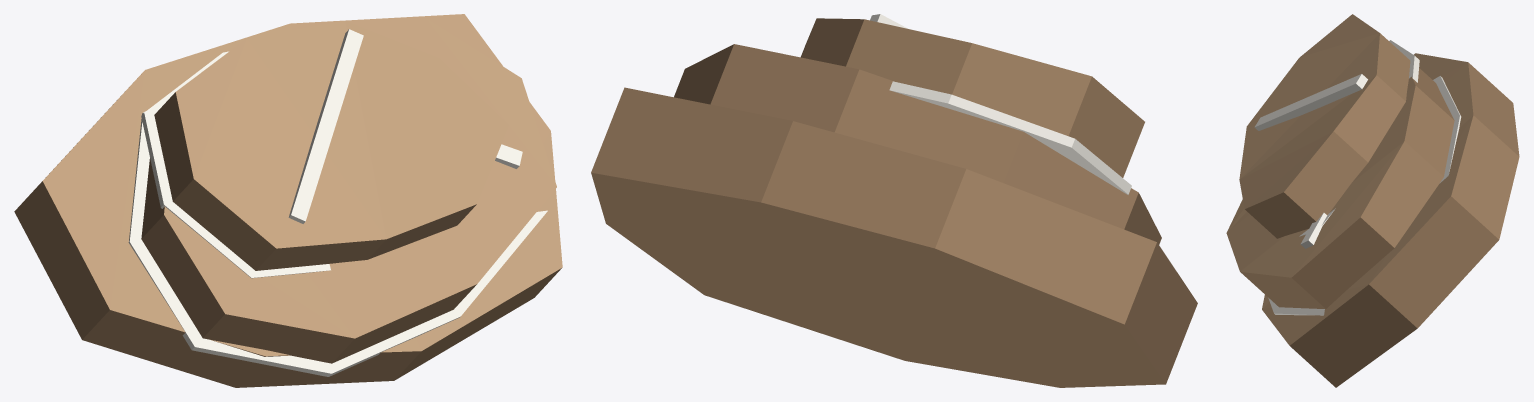
File: veios-brancos.glb
The picture shows the model from 3 angles, left to right: view 1: azimuth 30°, elevation 25°; view 2: azimuth 150°, elevation 25°; view 3: azimuth 270°, elevation 25°; orthographic projection. The views are drawn at different scales.
Parts seen in each view (by area): view 1: veios-brancos; view 2: veios-brancos; view 3: veios-brancos.
Part boxes in pixels (box(x1,y1,x2,y2)): veios-brancos: box(14, 14, 562, 387); veios-brancos: box(591, 14, 1197, 387); veios-brancos: box(1226, 14, 1519, 387).
Bounding box in the file's own units: 1.1 × 0.7339 × 0.7057.
